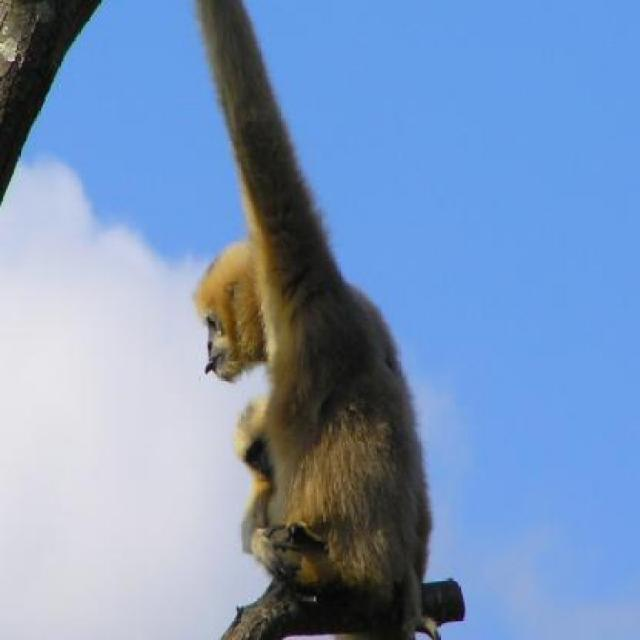Monkey: (142, 26, 452, 640)
